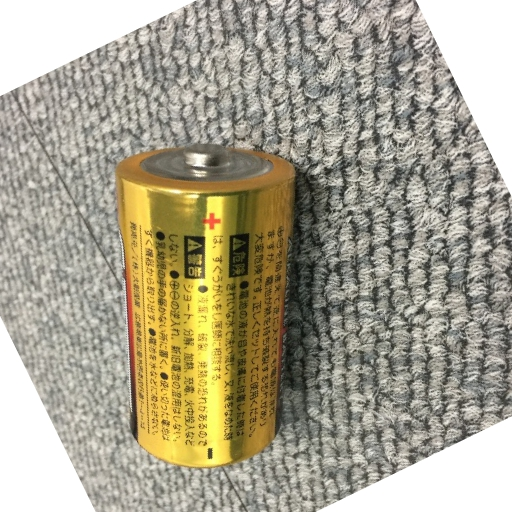Battery_0: (109, 141, 312, 472)
